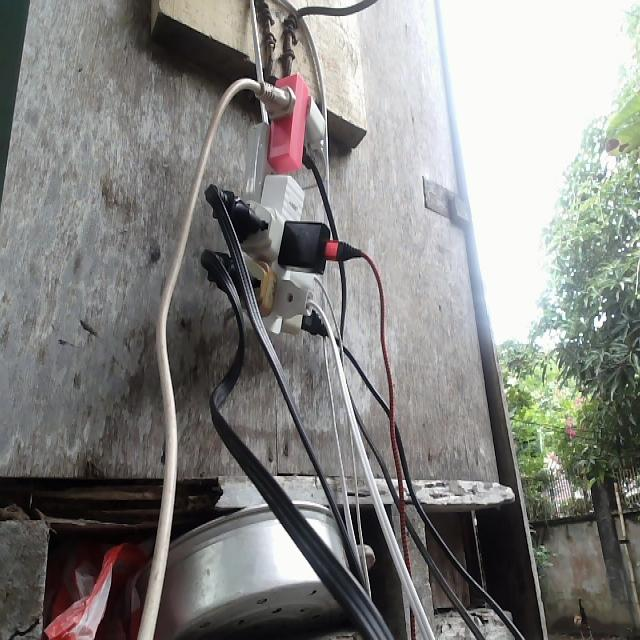-: (206, 72, 363, 340)
